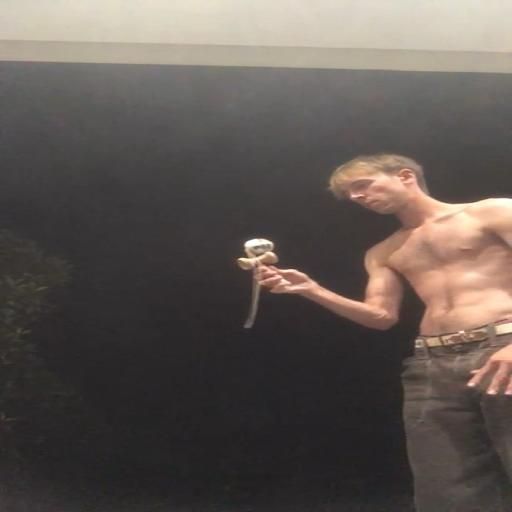kendama_ball: (244, 238, 274, 256)
